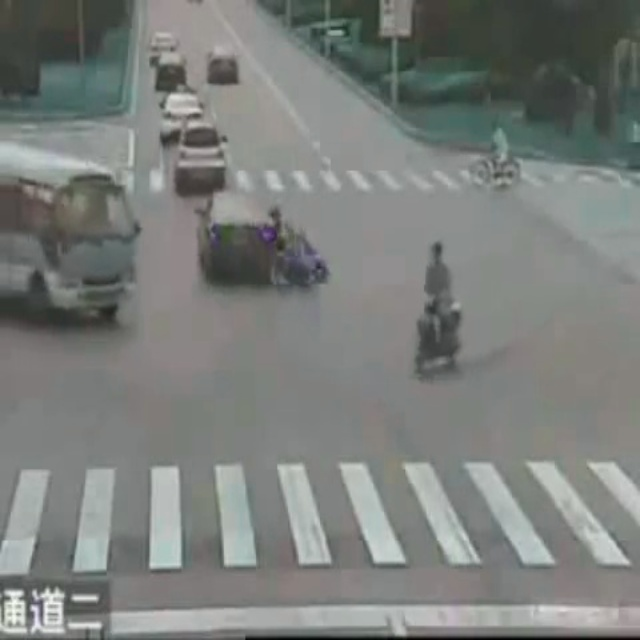acc: (193, 185, 344, 307)
